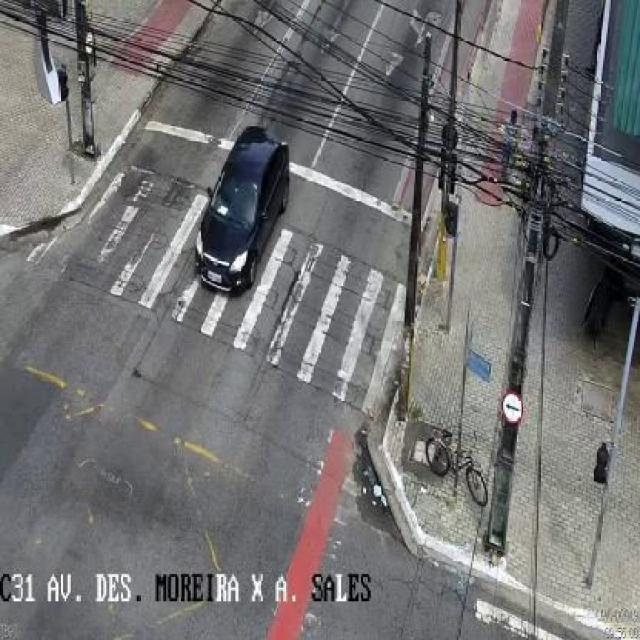Car: (193, 126, 292, 299)
Cycle: (422, 426, 490, 502)
